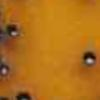black: (77, 47, 99, 68), (1, 21, 23, 41), (0, 60, 12, 79), (13, 90, 34, 100), (0, 93, 12, 100)
